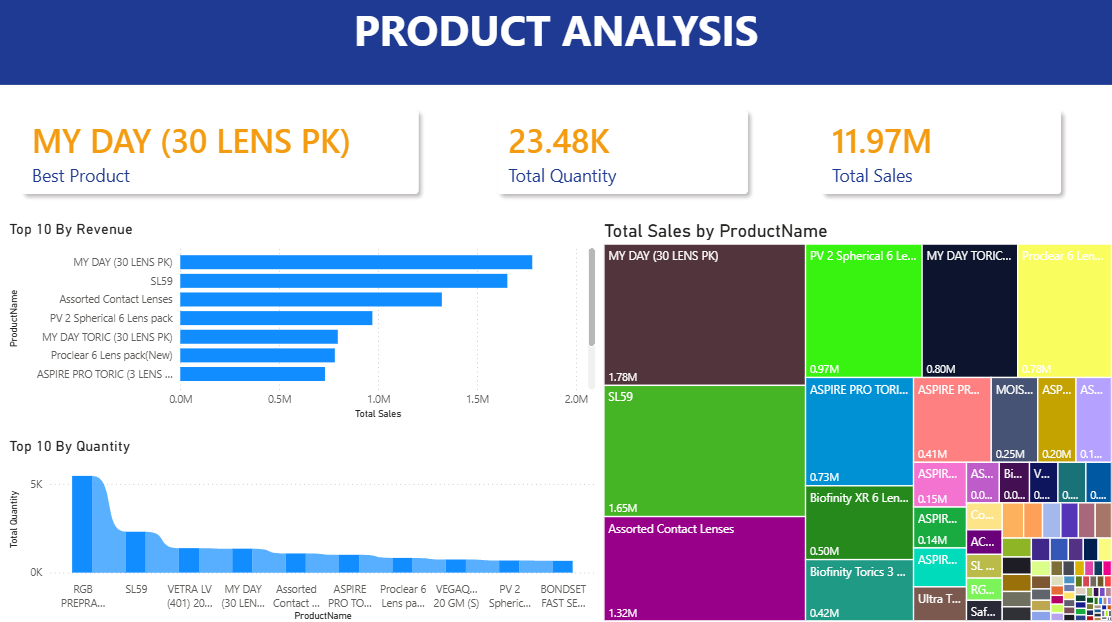

The dashboard page shown, as its layout file describes it:
{"tool":"powerbi","page":{"name":"Product Analysis","canvas":[1280,720],"ordinal":1},"visuals":[{"type":"clusteredBarChart","title":"Top 10 By Revenue","fields":{"Category":["sales data 1 april 26 to 23 jun.ProductName"],"Y":["_Measures.Total Sales"]},"box":[10,255.7,680,232.9],"z":3},{"type":"ribbonChart","title":"Top 10 By Quantity","fields":{"Category":["sales data 1 april 26 to 23 jun.ProductName"],"Y":["_Measures.Total Quantity"]},"box":[10,504.3,680,215.7],"z":4},{"type":"treemap","fields":{"Group":["sales data 1 april 26 to 23 jun.ProductName"],"Values":["_Measures.Total Sales"]},"box":[690,255.7,590,464.3],"z":5},{"type":"cardVisual","fields":{"Data":["_Measures.Best Product"]},"box":[0,101.4,512.9,154.3],"z":6},{"type":"cardVisual","fields":{"Data":["_Measures.Total Sales"]},"box":[914.3,101.4,332.9,154.3],"z":7},{"type":"cardVisual","fields":{"Data":["_Measures.Total Quantity"]},"box":[544.3,101.4,344.3,154.3],"z":8},{"type":"textbox","box":[0,0,1280,101.4],"z":9}]}

Visuals, with their boxes in screenshot pixels (x1, y1, x2, y2), scaled from the page's 1280x720 canvas onto the 1112x622 screenshot:
"Top 10 By Revenue" clusteredBarChart: <box>9,221,599,422</box>
"Top 10 By Quantity" ribbonChart: <box>9,436,599,621</box>
treemap - sales data 1 april 26 to 23 jun.ProductName x _Measures.Total Sales: <box>599,221,1111,621</box>
cardVisual - _Measures.Best Product: <box>0,88,446,221</box>
cardVisual - _Measures.Total Sales: <box>794,88,1084,221</box>
cardVisual - _Measures.Total Quantity: <box>473,88,772,221</box>
textbox: <box>0,0,1111,88</box>
